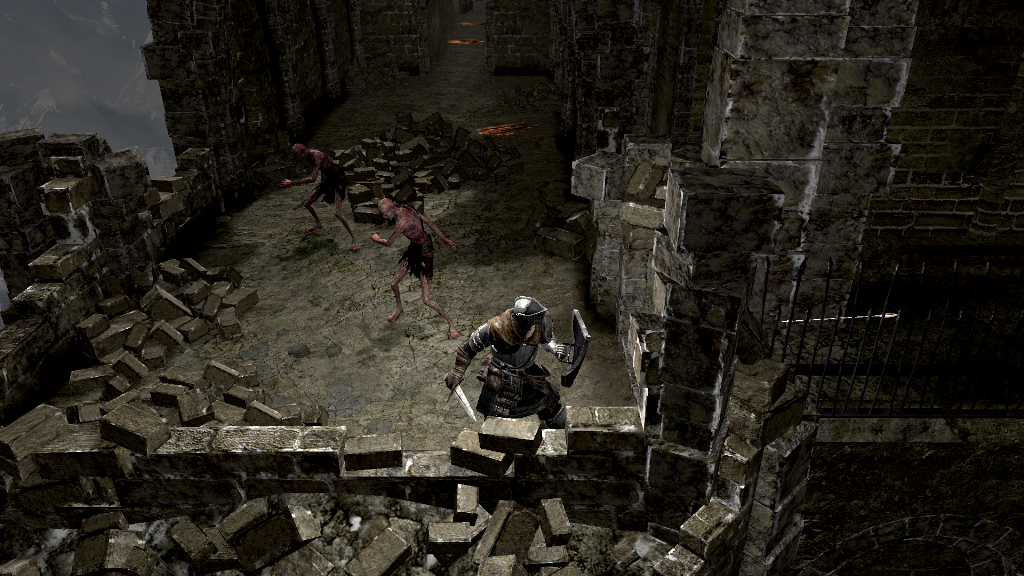hollow: (369, 198, 462, 341), (279, 142, 360, 254)
player: (442, 295, 591, 427)
